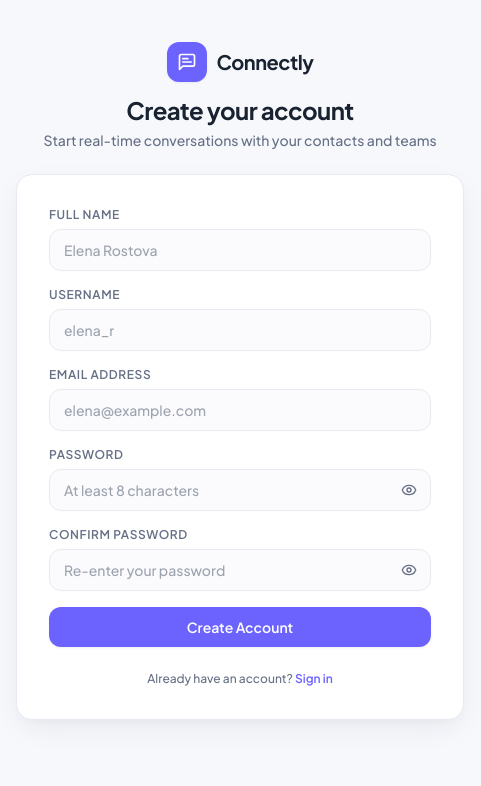
Connectly Frontend Suite › Authentication & Form Validation › validates registration fields and displays password strength feedback
This screenshot has width=481, height=786.
In the password field labelled "Password": {"x": 240, "y": 490} [49,469,431,511], type "StrongPass123!"
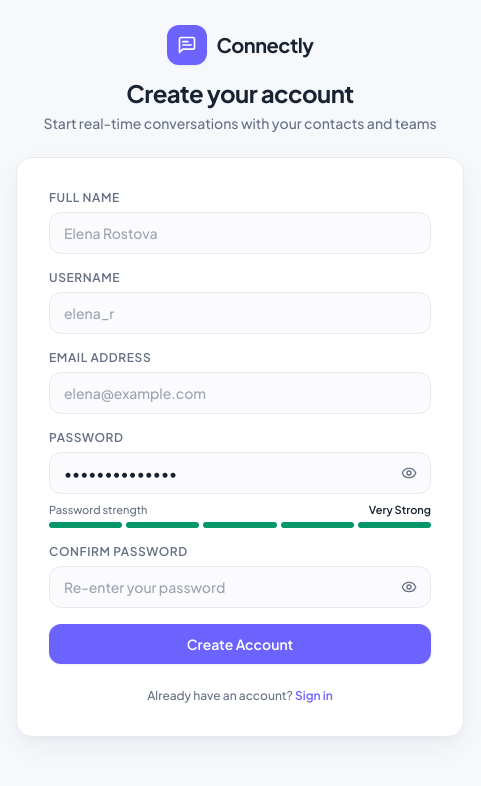
Result: the text "Password strength" is shown at [49,502,147,518]
Result: the text "Very Strong" is shown at [369,502,431,518]
Click the button "Create Account": {"x": 240, "y": 644} [49,624,431,664]
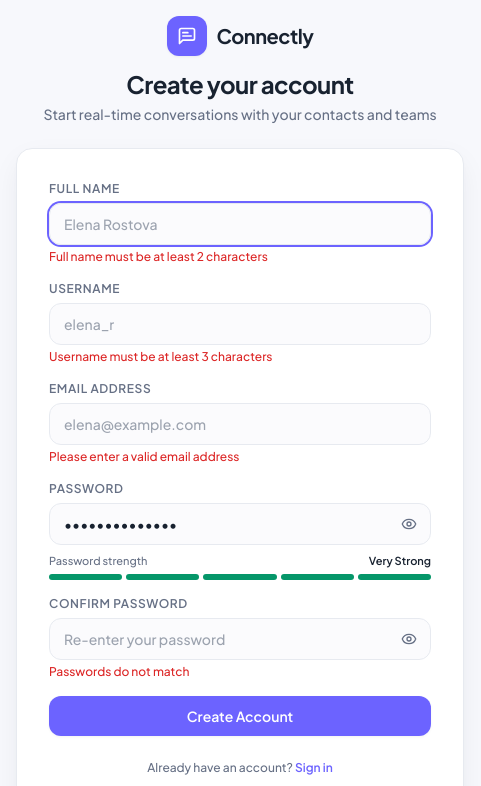
Result: the text "Full name must be at least 2 characters" is shown at [49,249,268,264]
